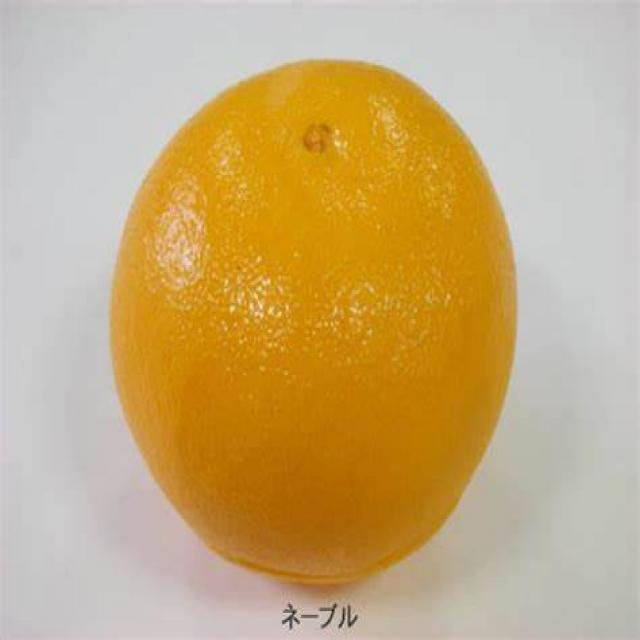Orange: (105, 58, 520, 588)
